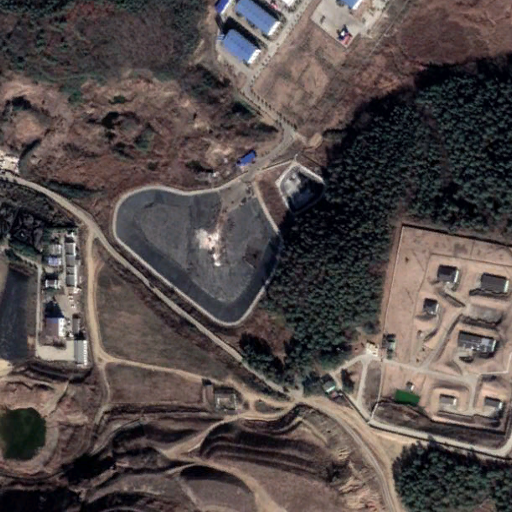lf: (112, 169, 285, 328)
